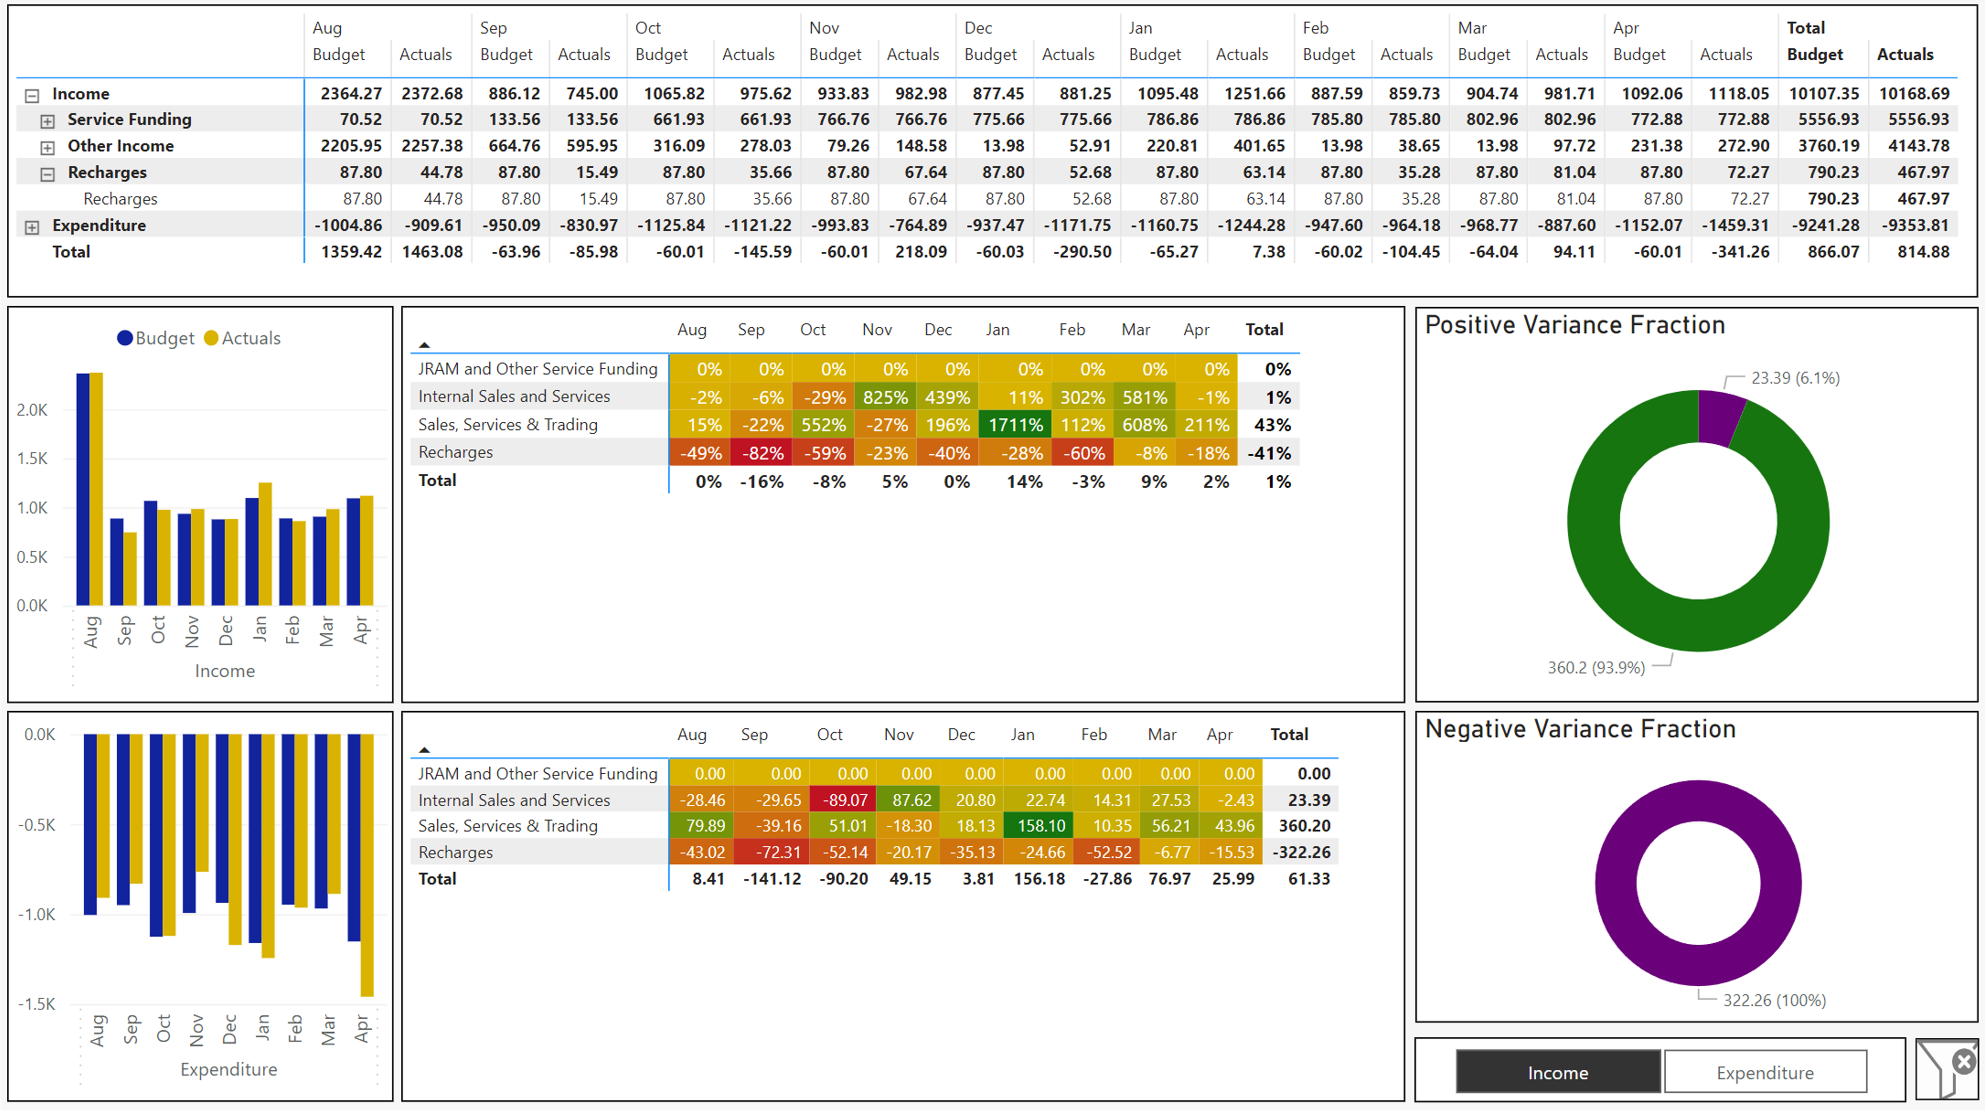

The dashboard page shown, as its layout file describes it:
{"tool":"powerbi","page":{"name":"Page 1","canvas":[1280,720],"ordinal":0},"visuals":[{"type":"slicer","fields":{"Values":["IE_Data.IE"]},"box":[46.7,596.5,150.5,49.8],"z":0},{"type":"slicer","fields":{"Values":["IE_Data.IE"]},"box":[98.3,247.6,143.8,51.6],"z":1000},{"type":"clusteredColumnChart","title":"Income by Month","fields":{"Category":["IE_Data.IE","IE_Data.Month"],"Y":["Sum(IE_Data.Budget)","Sum(IE_Data.Actuals)"]},"box":[4.9,460.8,249.4,251.9],"z":2000},{"type":"clusteredColumnChart","title":"Income by Month","fields":{"Category":["IE_Data.IE","IE_Data.Month"],"Y":["IE_Data.Budget_ABS","IE_Data.Actuals_ABS"]},"box":[4.9,199.7,249.4,256.2],"z":3000},{"type":"pivotTable","fields":{"Rows":["IE_Data.IE","IE_Data.Category","IE_Data.Subcategory"],"Columns":["IE_Data.Month"],"Values":["Sum(IE_Data.Budget)","Sum(IE_Data.Actuals)"]},"box":[4.9,5.5,1269.8,188.6],"z":4000},{"type":"pivotTable","fields":{"Columns":["IE_Data.Month"],"Values":["IE_Data.Varience"],"Rows":["IE_Data.Subcategory"]},"box":[258.6,460.8,646.9,251.9],"z":5000},{"type":"pivotTable","fields":{"Rows":["IE_Data.Subcategory"],"Columns":["IE_Data.Month"],"Values":["IE_Data.Varience %"]},"box":[258.6,199.7,646.9,256.2],"z":6000},{"type":"slicer","fields":{"Values":["IE_Data.IE"]},"box":[911.7,670.9,317,41.8],"z":7000},{"type":"donutChart","title":"Positive Variance Fraction","fields":{"Y":["IE_Data.Variance_Positive"],"Category":["IE_Data.Subcategory"]},"box":[911.9,200.2,362.8,255.5],"z":8000},{"type":"donutChart","title":"Negative Variance Fraction","fields":{"Category":["IE_Data.Subcategory"],"Y":["IE_Data.Variance_Negative"]},"box":[911.9,460.9,362.8,201.5],"z":9000},{"type":"actionButton","box":[1234.2,671.5,40.5,39.9],"z":9001}]}

Visuals, with their boxes in screenshot pixels (x1, y1, x2, y2), scaled from the page's 1280x720 canvas onto the 1985x1110 screenshot:
slicer - IE_Data.IE: [left=72, top=920, right=306, bottom=996]
slicer - IE_Data.IE: [left=152, top=382, right=375, bottom=461]
"Income by Month" clusteredColumnChart: [left=8, top=710, right=394, bottom=1099]
"Income by Month" clusteredColumnChart: [left=8, top=308, right=394, bottom=703]
pivotTable - IE_Data.IE x IE_Data.Category: [left=8, top=8, right=1977, bottom=299]
pivotTable - IE_Data.Month x IE_Data.Varience: [left=401, top=710, right=1404, bottom=1099]
pivotTable - IE_Data.Subcategory x IE_Data.Month: [left=401, top=308, right=1404, bottom=703]
slicer - IE_Data.IE: [left=1414, top=1034, right=1905, bottom=1099]
"Positive Variance Fraction" donutChart: [left=1414, top=309, right=1977, bottom=703]
"Negative Variance Fraction" donutChart: [left=1414, top=711, right=1977, bottom=1021]
actionButton: [left=1914, top=1035, right=1977, bottom=1097]
